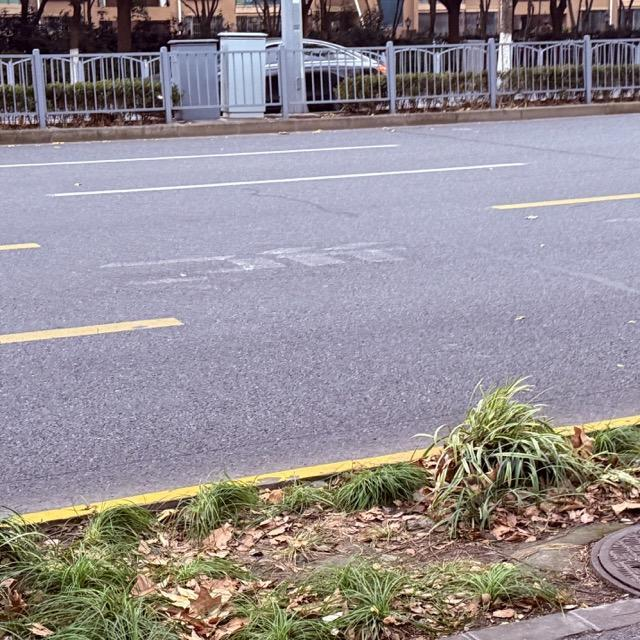curb: (0, 102, 639, 145), (443, 599, 639, 639), (226, 451, 424, 488), (21, 484, 204, 523), (582, 415, 639, 433)
